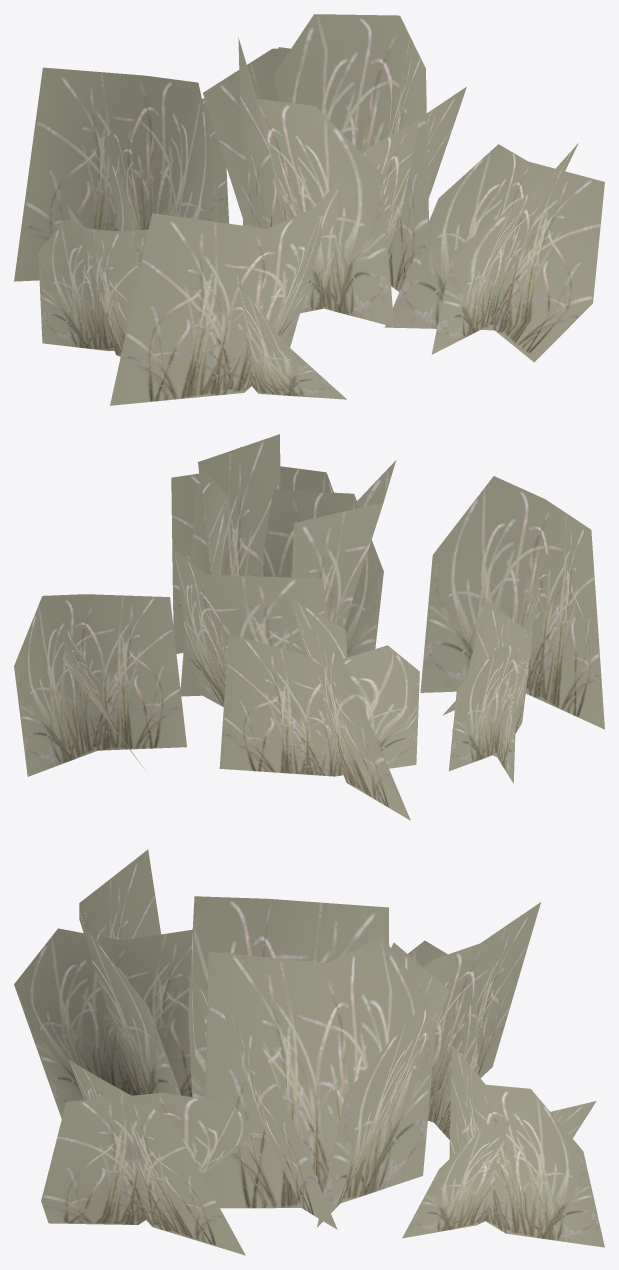
The model's file is proc_drygrasses01.FBX.
The picture shows the model from 3 angles, top to bottom: view 1: azimuth 30°, elevation 25°; view 2: azimuth 150°, elevation 25°; view 3: azimuth 270°, elevation 25°; orthographic projection. The views are drawn at different scales.
Visible parts, largest first — view 1: proc_drygrasses01; view 2: proc_drygrasses01; view 3: proc_drygrasses01.
Part boxes in pixels (<box>): proc_drygrasses01: <box>14,14,604,405</box>; proc_drygrasses01: <box>14,434,604,820</box>; proc_drygrasses01: <box>14,849,604,1255</box>.
Size of the model in its own units: 2.23 by 2.35 by 1.15.
Materials: 1 (1 with a texture image).
